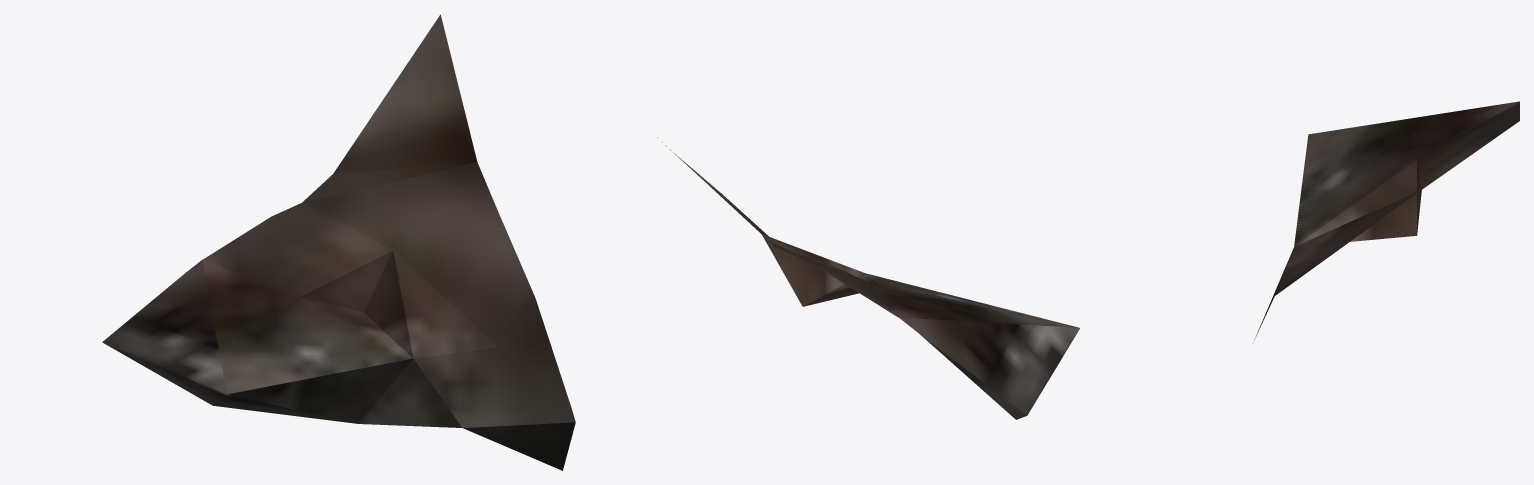
The picture shows the model from 3 angles, left to right: view 1: azimuth 30°, elevation 25°; view 2: azimuth 150°, elevation 25°; view 3: azimuth 270°, elevation 25°; orthographic projection. The views are drawn at different scales.
Bounding box in the file's own units: 0.1286 × 0.1051 × 0.0692.
Materials: 1 (1 with a texture image).
